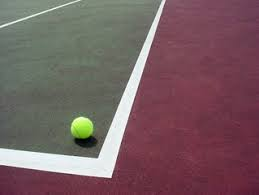tennis_ball: (70, 116, 93, 140)
